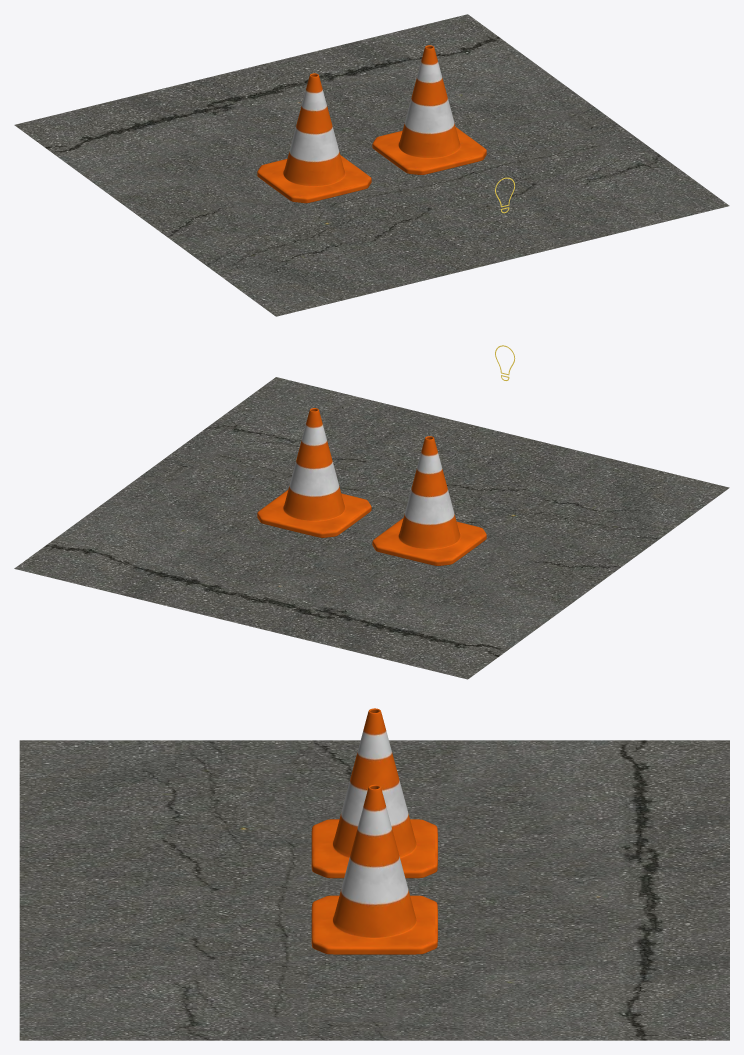
The picture shows the model from 3 angles, top to bottom: view 1: azimuth 30°, elevation 25°; view 2: azimuth 150°, elevation 25°; view 3: azimuth 270°, elevation 25°; orthographic projection. The views are drawn at different scales.
Parts seen in each view (by area): view 1: GroundPlane, Cone Retroreflection, Cone Normal; view 2: GroundPlane, Cone Normal, Cone Retroreflection; view 3: GroundPlane, Cone Normal, Cone Retroreflection.
Part boxes in pixels (x1=…): GroundPlane: x1=14, y1=14, x2=729, y2=316; Cone Retroreflection: x1=257, y1=73, x2=371, y2=203; Cone Normal: x1=372, y1=45, x2=486, y2=174; GroundPlane: x1=14, y1=377, x2=729, y2=679; Cone Normal: x1=257, y1=408, x2=371, y2=537; Cone Retroreflection: x1=372, y1=436, x2=486, y2=565; GroundPlane: x1=19, y1=740, x2=729, y2=1040; Cone Normal: x1=311, y1=784, x2=437, y2=954; Cone Retroreflection: x1=311, y1=708, x2=437, y2=878.
Bounding box in the file's own units: 2.36 × 0.5193 × 2.38.
3 materials, 2 textured.
